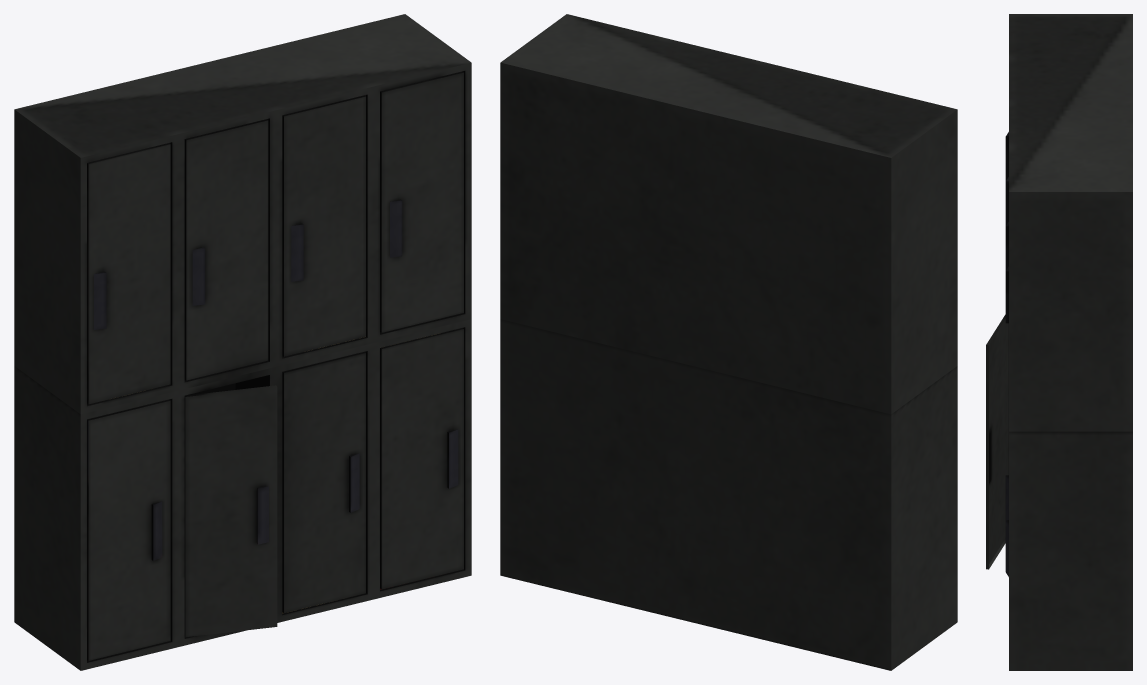
The model's file is Locker_1.fbx.
3 views of the same model, side by side, from view 1: azimuth 30°, elevation 25°; view 2: azimuth 150°, elevation 25°; view 3: azimuth 270°, elevation 25° (orthographic). The views are drawn at different scales.
Parts seen in each view (by area): view 1: Locker_1; view 2: Locker_1; view 3: Locker_1.
Part boxes in pixels (x1,y1,x2,y2): Locker_1: (14,14,471,670); Locker_1: (500,14,957,670); Locker_1: (986,14,1132,670).
Size of the model in its own units: 89.59 by 112 by 31.22.
